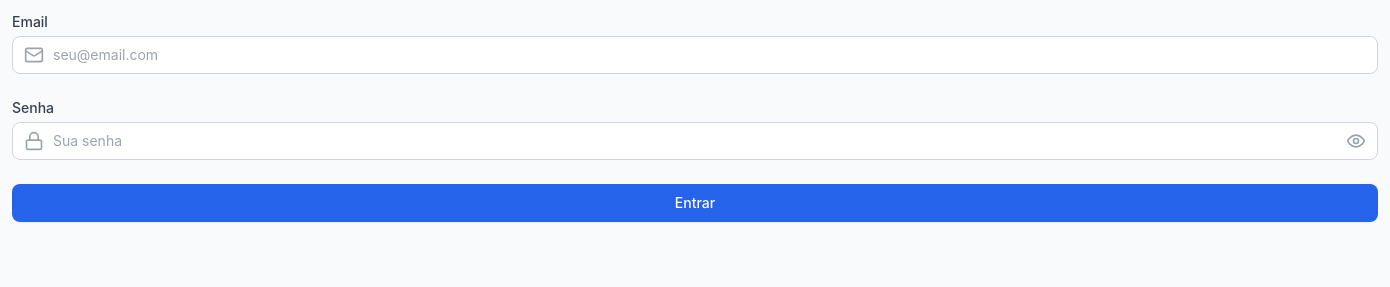
Test: LoginForm › deve limpar erros quando usuário corrige os campos
Note: Causar erro de validação
Click the button "Entrar" at (695, 203), box [12,184,1378,222]
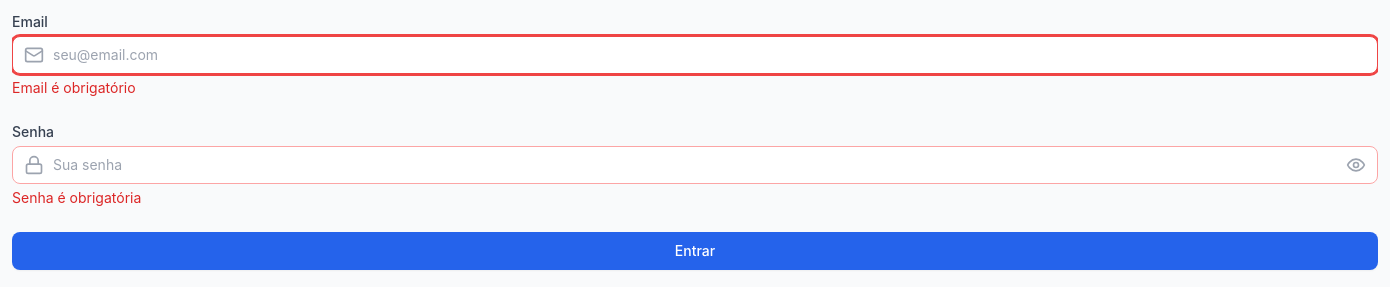
Expected: the text "Email é obrigatório" is shown, [12,79,136,96]
Note: Corrigir o erro
Type "test@email.com" into the field with placeholder "seu@email.com" at (695, 55), box [12,36,1378,74]
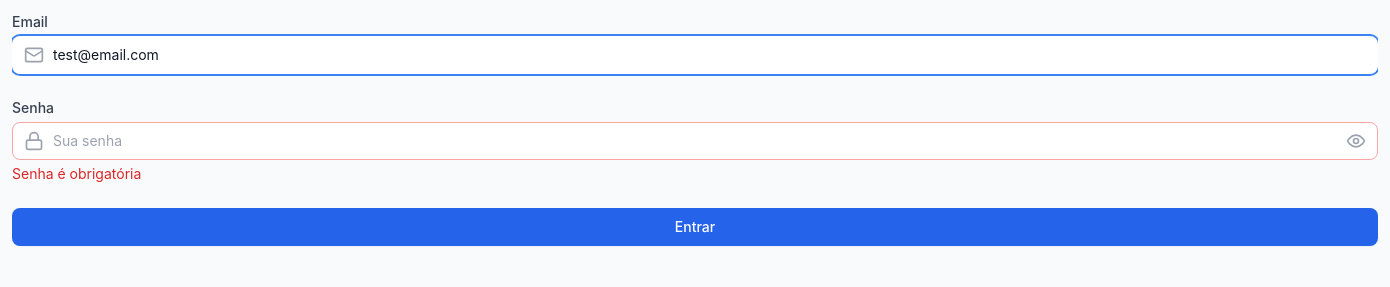
Expected: the text "Email é obrigatório" is gone
